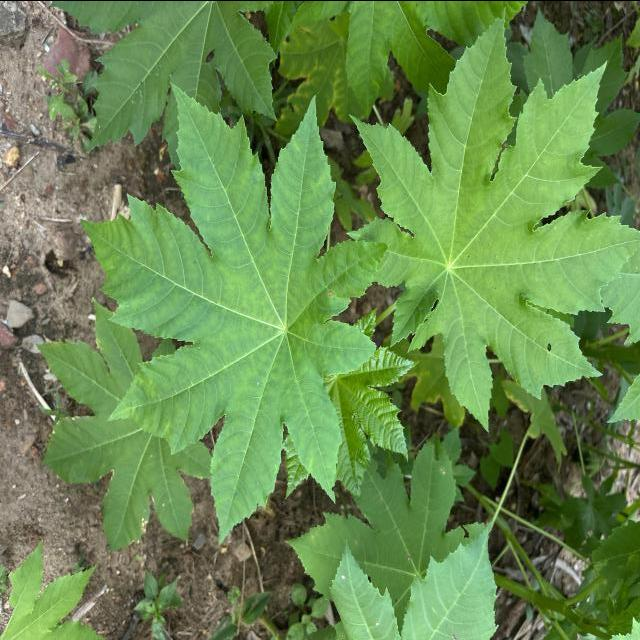Ricinus communis linn: (77, 76, 396, 549), (343, 0, 640, 436)
